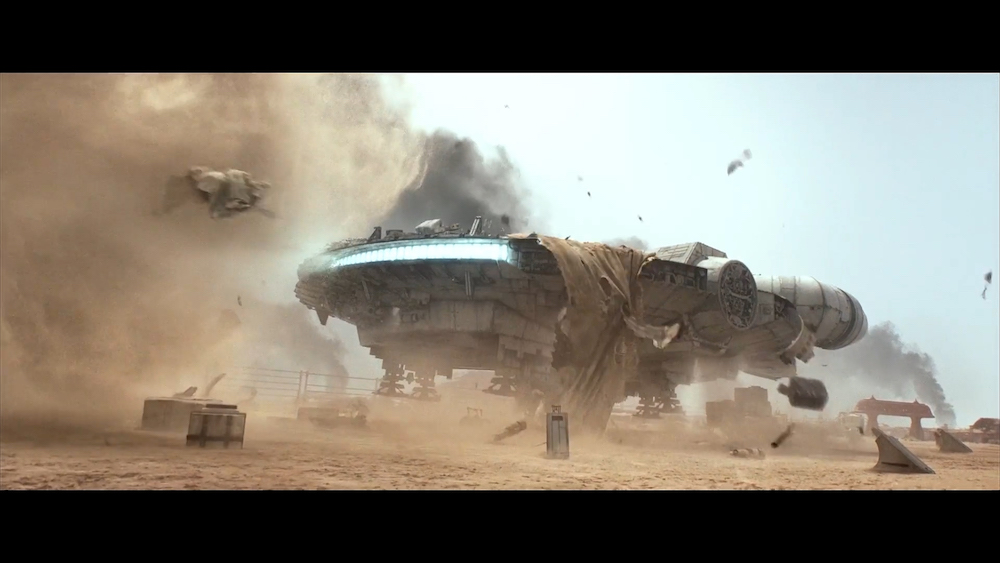Millennium Falcon: (297, 227, 867, 391)
